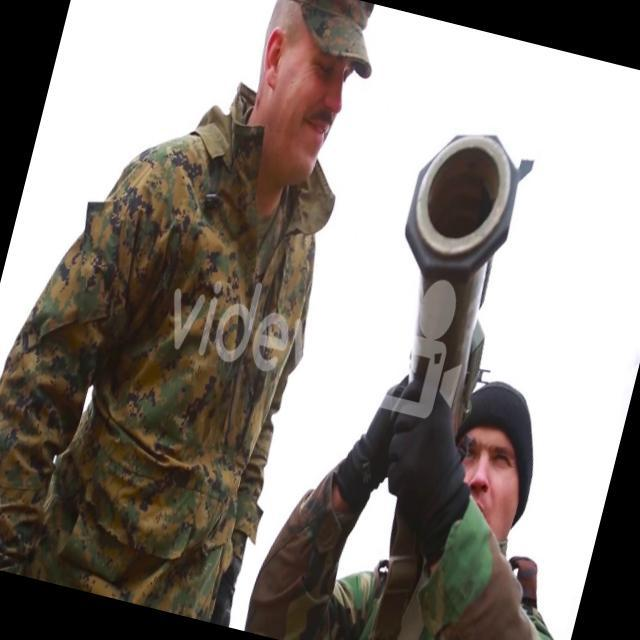rocket: (362, 119, 538, 429)
